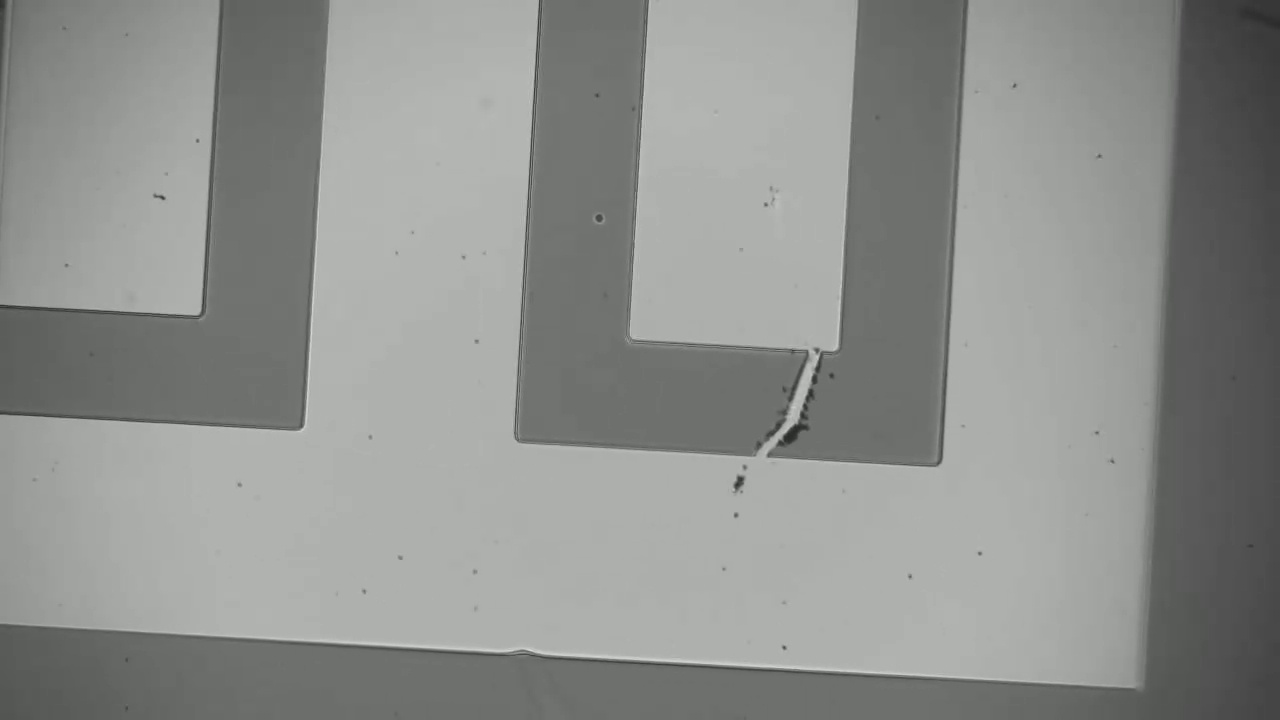Short_circuit: (721, 338, 838, 480)
